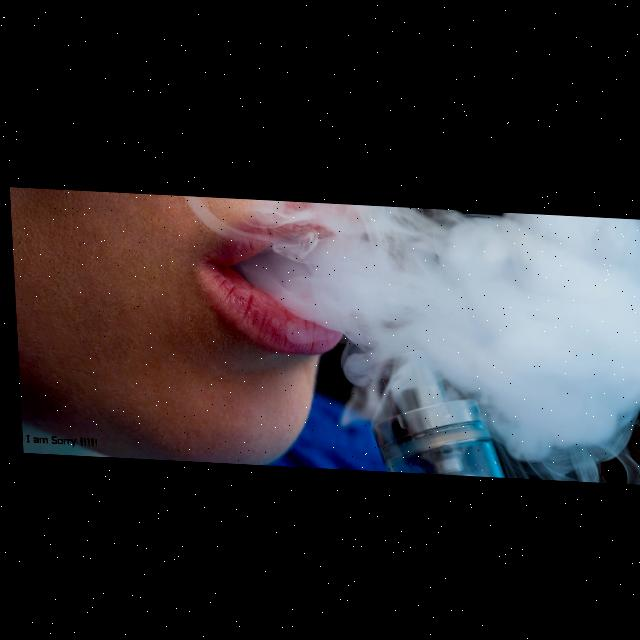vape: (363, 343, 502, 473)
